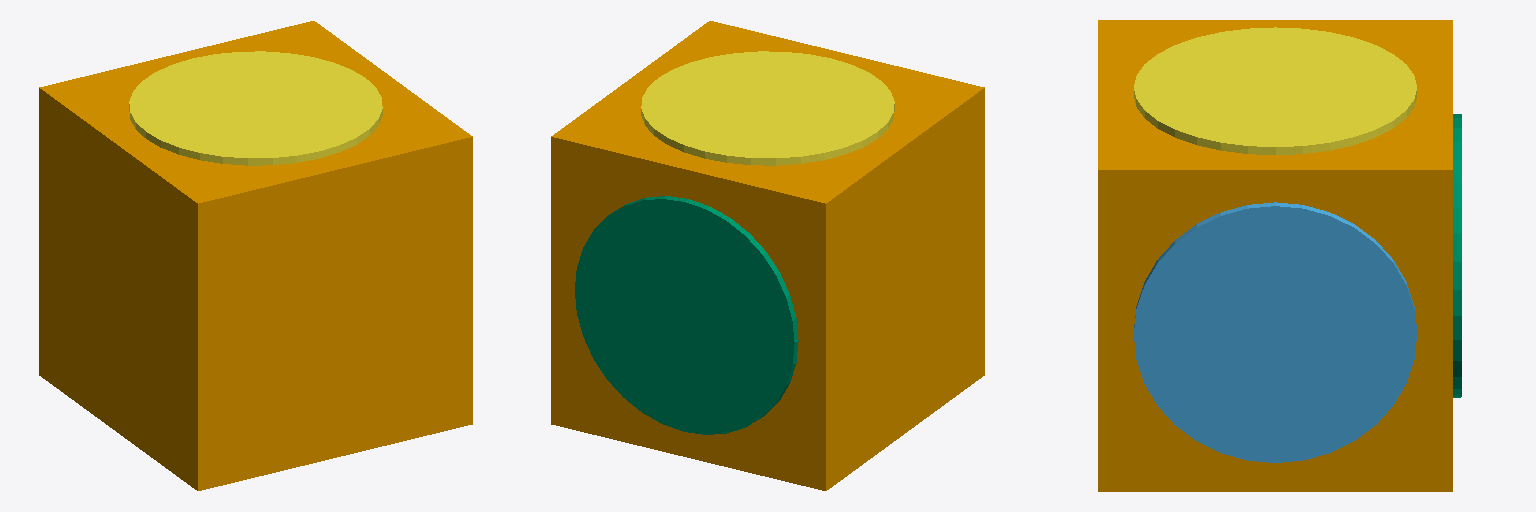
robot.urdf — moving_cube:
<?xml version="1.0" ?>
<robot name="moving_cube">

    <gazebo>
        <plugin name="gazebo_ros_control" filename="libgazebo_ros_control.so">
            <robotNamespace>/moving_cube</robotNamespace>
        </plugin>
    </gazebo>

    <link name="cube_body">
        <inertial>
            <origin xyz="0 0 0" rpy="0 0 0"/>
            <mass value="0.5" />
            <inertia ixx="0.00333333333333" ixy="0.0" ixz="0.0" iyy="0.00333333333333" iyz="0.0" izz="0.00333333333333"/>
        </inertial>
        <collision>
            <origin xyz="0 0 0" rpy="0 0 0"/>
            <geometry>
                <box size="0.2 0.2 0.2"/>
            </geometry>
        </collision>
	    <visual>
	      <geometry>
	        <box size="0.2 0.2 0.2"/>
	      </geometry>
	    </visual>
    </link>


    <link name="inertia_wheel_roll">
        <inertial>
            <origin xyz="0 0 0" rpy="0 0 0"/>
            <mass value="0.5" />
            <inertia ixx="0.000804166666667" ixy="0.0" ixz="0.0" iyy="0.000804166666667" iyz="0.0" izz="0.0016"/>
        </inertial>
        <collision>
            <origin xyz="0 0 0" rpy="0 0 0"/>
            <geometry>
                <cylinder radius="0.08" length="0.01"/>
            </geometry>
        </collision>
	    <visual>
	      <geometry>
	        <cylinder radius="0.08" length="0.01"/>
	      </geometry>
	    </visual>
    </link>

    <link name="inertia_wheel_pitch">
        <inertial>
            <origin xyz="0 0 0" rpy="0 0 0"/>
            <mass value="0.5" />
            <inertia ixx="0.000804166666667" ixy="0.0" ixz="0.0" iyy="0.000804166666667" iyz="0.0" izz="0.0016"/>
        </inertial>
        <collision>
            <origin xyz="0 0 0" rpy="0 0 0"/>
            <geometry>
                <cylinder radius="0.08" length="0.01"/>
            </geometry>
        </collision>
	    <visual>
	      <geometry>
	        <cylinder radius="0.08" length="0.01"/>
	      </geometry>
	    </visual>
    </link>

    <link name="inertia_wheel_yaw">
        <inertial>
            <origin xyz="0 0 0" rpy="0 0 0"/>
            <mass value="0.5" />
            <inertia ixx="0.000804166666667" ixy="0.0" ixz="0.0" iyy="0.000804166666667" iyz="0.0" izz="0.0016"/>
        </inertial>
        <collision>
            <origin xyz="0 0 0" rpy="0 0 0"/>
            <geometry>
                <cylinder radius="0.08" length="0.01"/>
            </geometry>
        </collision>
	    <visual>
	      <geometry>
	        <cylinder radius="0.08" length="0.01"/>
	      </geometry>
	    </visual>
    </link>


    <gazebo reference="cube_body">
        <kp>1000000.0</kp>
        <kd>1000000.0</kd>
        <mu1>1000000.0</mu1>
        <mu2>1000000.0</mu2>
        <material>Gazebo/Black</material>
    </gazebo>

    <gazebo reference="inertia_wheel_roll">
        <kp>1000.0</kp>
        <kd>1000.0</kd>
        <mu1>0.5</mu1>
        <mu2>0.5</mu2>
        <material>Gazebo/Red</material>
    </gazebo>

    <gazebo reference="inertia_wheel_pitch">
        <kp>1000.0</kp>
        <kd>1000.0</kd>
        <mu1>0.5</mu1>
        <mu2>0.5</mu2>
        <material>Gazebo/Green</material>
    </gazebo>

    <gazebo reference="inertia_wheel_yaw">
        <kp>1000.0</kp>
        <kd>1000.0</kd>
        <mu1>0.5</mu1>
        <mu2>0.5</mu2>
        <material>Gazebo/Blue</material>
    </gazebo>

    <joint name="inertia_wheel_roll_joint" type="continuous">
        <origin xyz="0.1 0.0 0.0" rpy="0 1.57 0"/>
        <parent link="cube_body"/>
        <child  link="inertia_wheel_roll"/>
        <limit effort="200" velocity="1000.0"/>
        <axis xyz="0 0 1"/>
    </joint>

    <joint name="inertia_wheel_pitch_joint" type="continuous">
        <origin xyz="0 0.1 0.0" rpy="1.57 0 0"/>
        <parent link="cube_body"/>
        <child  link="inertia_wheel_pitch"/>
        <limit effort="200" velocity="1000.0"/>
        <axis xyz="0 0 1"/>
    </joint>

    <joint name="inertia_wheel_yaw_joint" type="continuous">
        <origin xyz="0.0 0.0 0.1" rpy="0 0 0"/>
        <parent link="cube_body"/>
        <child  link="inertia_wheel_yaw"/>
        <limit effort="200" velocity="1000.0"/>
        <axis xyz="0 0 1"/>
    </joint>


    <transmission name="inertia_wheel_roll_joint_trans">
      <type>transmission_interface/SimpleTransmission</type>
      <joint name="inertia_wheel_roll_joint">
        <hardwareInterface>hardware_interface/EffortJointInterface</hardwareInterface>
      </joint>
      <actuator name="inertia_wheel_roll_jointMotor">
        <hardwareInterface>hardware_interface/EffortJointInterface</hardwareInterface>
        <mechanicalReduction>1</mechanicalReduction>
      </actuator>
    </transmission>

    <transmission name="inertia_wheel_pitch_joint_trans">
      <type>transmission_interface/SimpleTransmission</type>
      <joint name="inertia_wheel_pitch_joint">
        <hardwareInterface>hardware_interface/EffortJointInterface</hardwareInterface>
      </joint>
      <actuator name="inertia_wheel_pitch_jointMotor">
        <hardwareInterface>hardware_interface/EffortJointInterface</hardwareInterface>
        <mechanicalReduction>1</mechanicalReduction>
      </actuator>
    </transmission>

    <transmission name="inertia_wheel_yaw_joint_trans">
      <type>transmission_interface/SimpleTransmission</type>
      <joint name="inertia_wheel_yaw_joint">
        <hardwareInterface>hardware_interface/EffortJointInterface</hardwareInterface>
      </joint>
      <actuator name="inertia_wheel_yaw_jointMotor">
        <hardwareInterface>hardware_interface/EffortJointInterface</hardwareInterface>
        <mechanicalReduction>1</mechanicalReduction>
      </actuator>
    </transmission>

</robot>

--- Render facts (derived) ---
3 views of the same robot in one strip: view 1: azimuth 30°, elevation 25°; view 2: azimuth 150°, elevation 25°; view 3: azimuth 270°, elevation 25° (orthographic).
Model moving_cube with 4 links and 3 joints (3 continuous), rooted at cube_body, posed every joint at zero.
Visible links, largest first — view 1: cube_body, inertia_wheel_yaw; view 2: cube_body, inertia_wheel_pitch, inertia_wheel_yaw; view 3: cube_body, inertia_wheel_roll, inertia_wheel_yaw, inertia_wheel_pitch.
Link boxes in pixels (x1,y1,x2,y2): cube_body: (39, 21, 472, 490); inertia_wheel_yaw: (129, 51, 382, 165); cube_body: (551, 21, 984, 490); inertia_wheel_pitch: (575, 196, 798, 434); inertia_wheel_yaw: (641, 51, 894, 165); cube_body: (1098, 20, 1452, 491); inertia_wheel_roll: (1134, 202, 1416, 462); inertia_wheel_yaw: (1134, 27, 1416, 154); inertia_wheel_pitch: (1453, 114, 1461, 397).
Bounding box of the posed robot: 0.2051 × 0.2051 × 0.205 m (x, y, z).
Geometry: primitives only (box / cylinder / sphere), no mesh files.